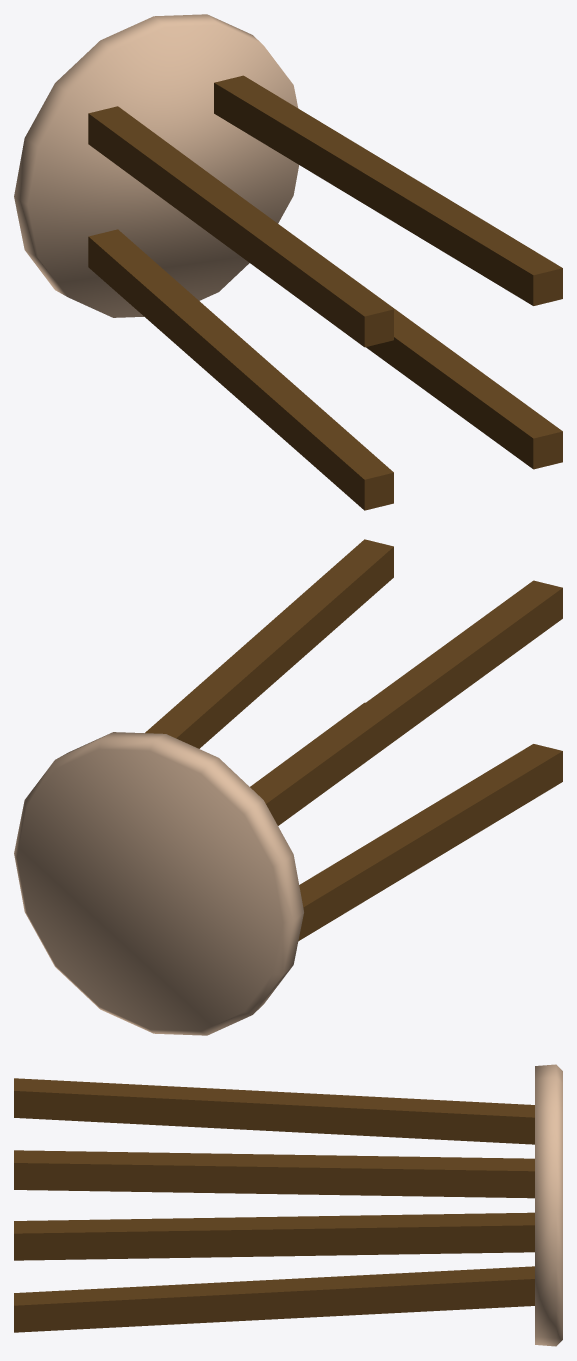
Rendered from Stool.glb.
3 views of the same model, one above another, from view 1: azimuth 30°, elevation 25°; view 2: azimuth 150°, elevation 25°; view 3: azimuth 270°, elevation 25° (orthographic). The views are drawn at different scales.
Parts seen in each view (by area): view 1: Stool; view 2: Stool; view 3: Stool.
Boxes of the visible parts, left/top/right/bottom form: Stool: left=14, top=14, right=562, bottom=510; Stool: left=14, top=539, right=562, bottom=1035; Stool: left=14, top=1064, right=562, bottom=1346.
Bounding box in the file's own units: 0.3894 × 0.3894 × 0.757.
Materials: 1 (1 with a texture image).
